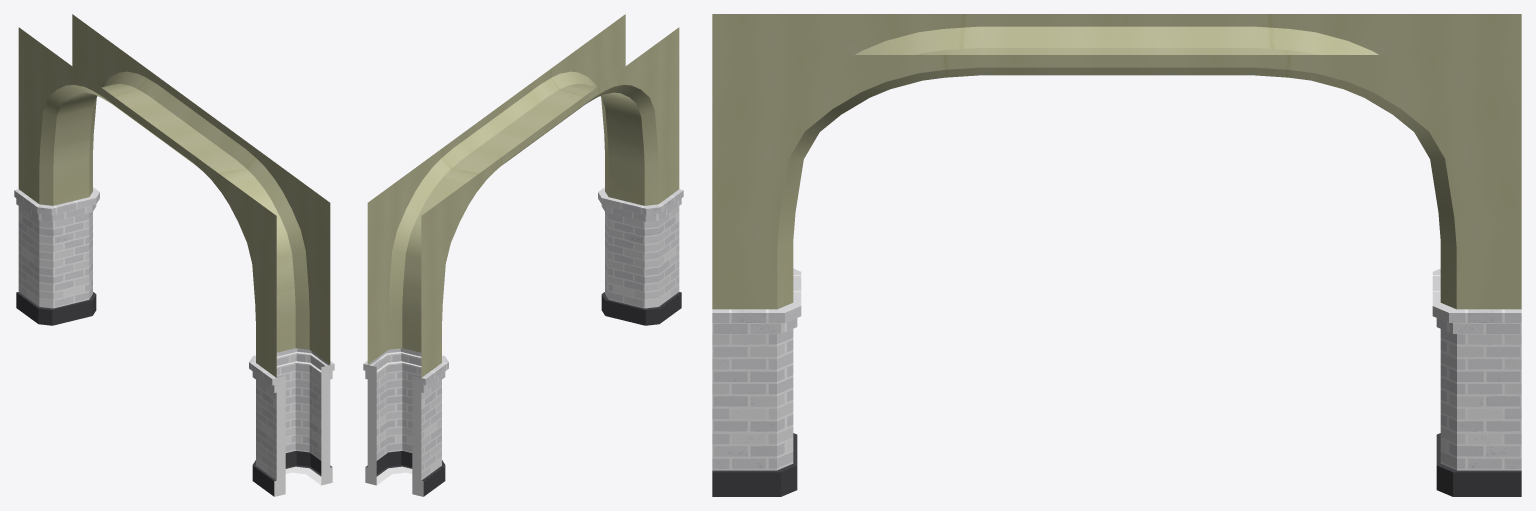
Rendered from SM_Buildings_ArchedColumnFull_2x3_01.fbx.
3 renders of one model, left to right at view 1: azimuth 30°, elevation 25°; view 2: azimuth 150°, elevation 25°; view 3: azimuth 270°, elevation 25°, orthographic. The views are drawn at different scales.
Parts seen in each view (by area): view 1: SM_Buildings_ArchedColumnFull_2x3_01; view 2: SM_Buildings_ArchedColumnFull_2x3_01; view 3: SM_Buildings_ArchedColumnFull_2x3_01.
Boxes of the visible parts, x1,y1,x2,y2 form: SM_Buildings_ArchedColumnFull_2x3_01: (14,14,334,496); SM_Buildings_ArchedColumnFull_2x3_01: (363,14,683,496); SM_Buildings_ArchedColumnFull_2x3_01: (712,14,1521,496).
Size of the model in its own units: 70 by 300 by 500.
Materials: 1 (1 with a texture image).
